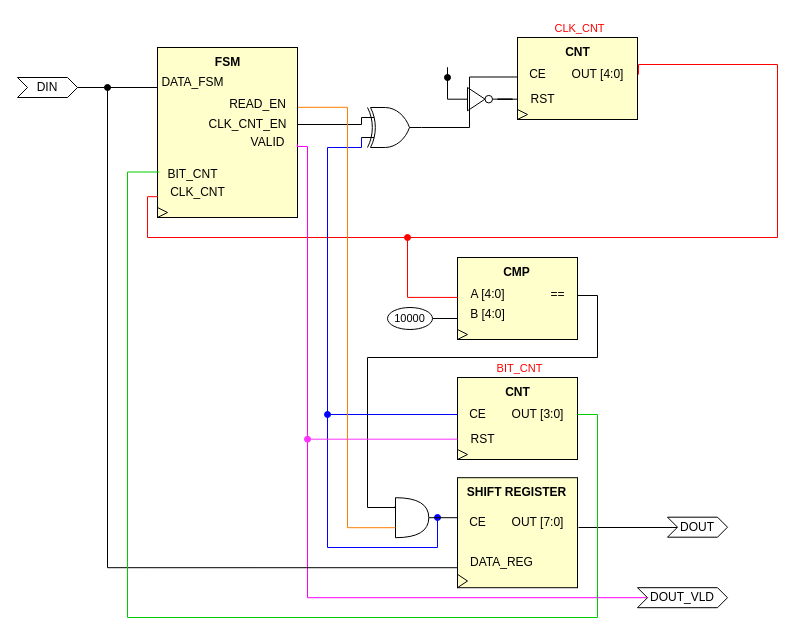
Some shapes in this 796 by 636 pixel diagram are drawn without their labels. Here are the shapes that lost their labels. From the top down, the centre of each, then its label:
At [391,127]: "XOR".
At [411,517]: "AND".
